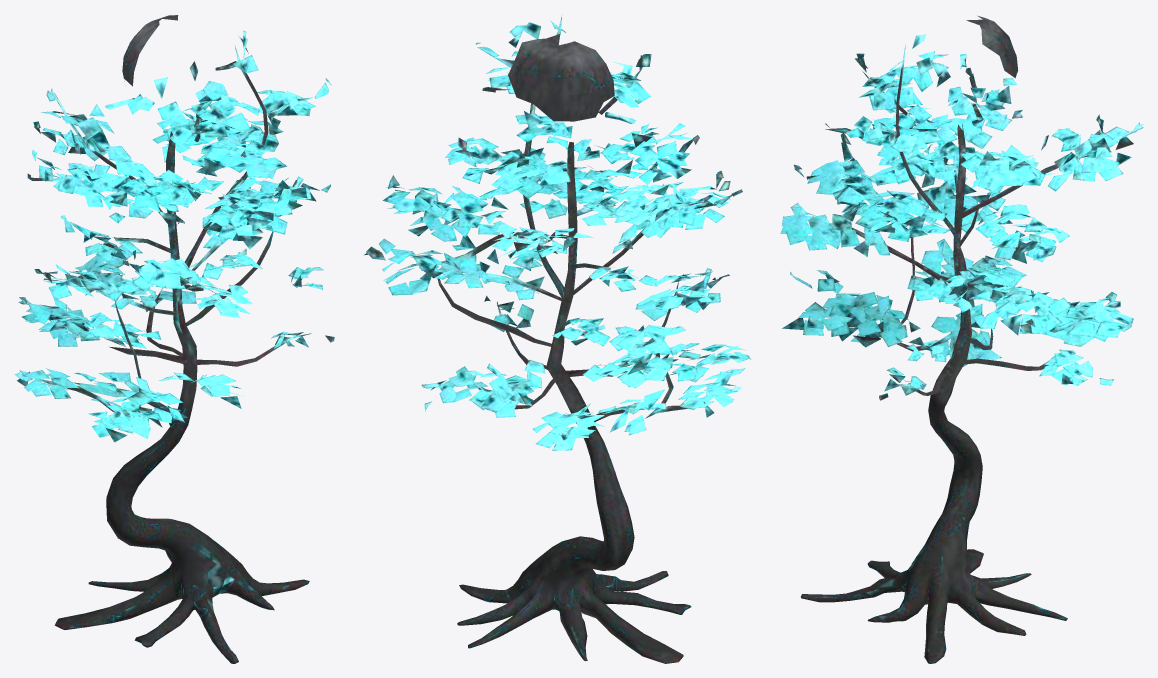
File: moon-silver-tree.glb
The picture shows the model from 3 angles, left to right: view 1: azimuth 30°, elevation 25°; view 2: azimuth 150°, elevation 25°; view 3: azimuth 270°, elevation 25°; orthographic projection. The views are drawn at different scales.
Size of the model in its own units: 0.5919 by 1 by 0.5594.
1 material, 1 textured.
